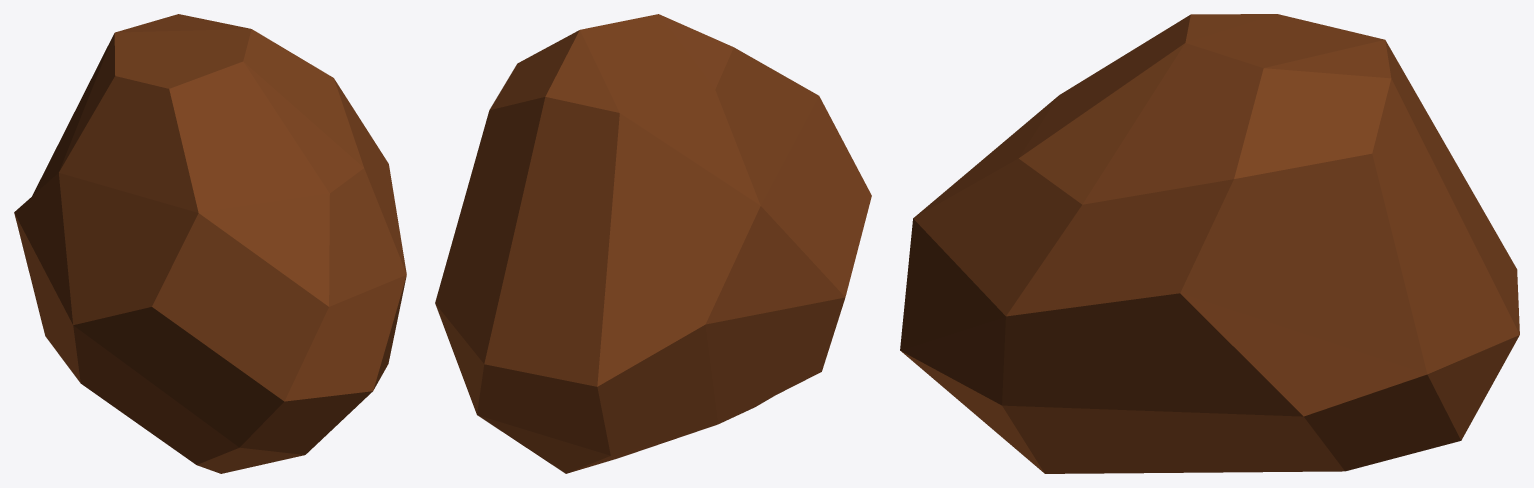
File: SmallRock_01.fbx
The picture shows the model from 3 angles, left to right: view 1: azimuth 30°, elevation 25°; view 2: azimuth 150°, elevation 25°; view 3: azimuth 270°, elevation 25°; orthographic projection. The views are drawn at different scales.
Visible parts, largest first — view 1: SmallRock_01; view 2: SmallRock_01; view 3: SmallRock_01.
Part boxes in pixels (x1=…): SmallRock_01: x1=14, y1=14, x2=406, y2=473; SmallRock_01: x1=435, y1=14, x2=871, y2=473; SmallRock_01: x1=900, y1=14, x2=1519, y2=473.
Size of the model in its own units: 201 by 228 by 282.
